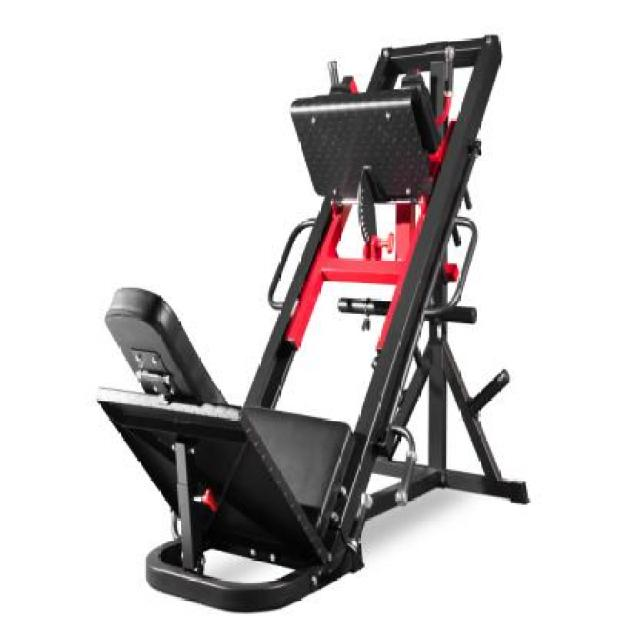leg press: (92, 22, 537, 620)
